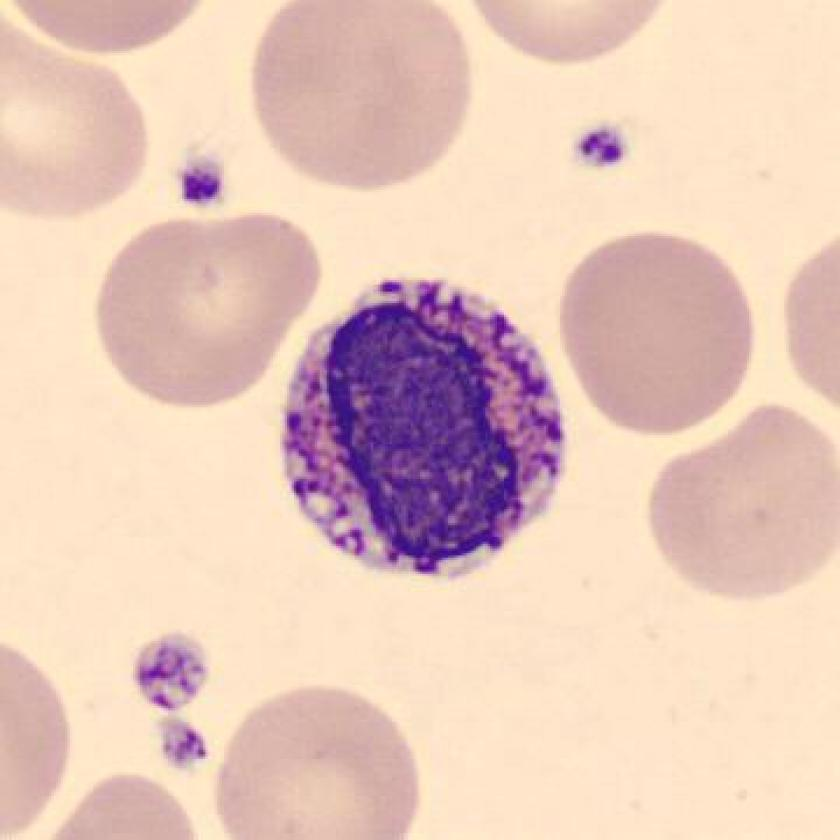basophil: (269, 270, 573, 584)
